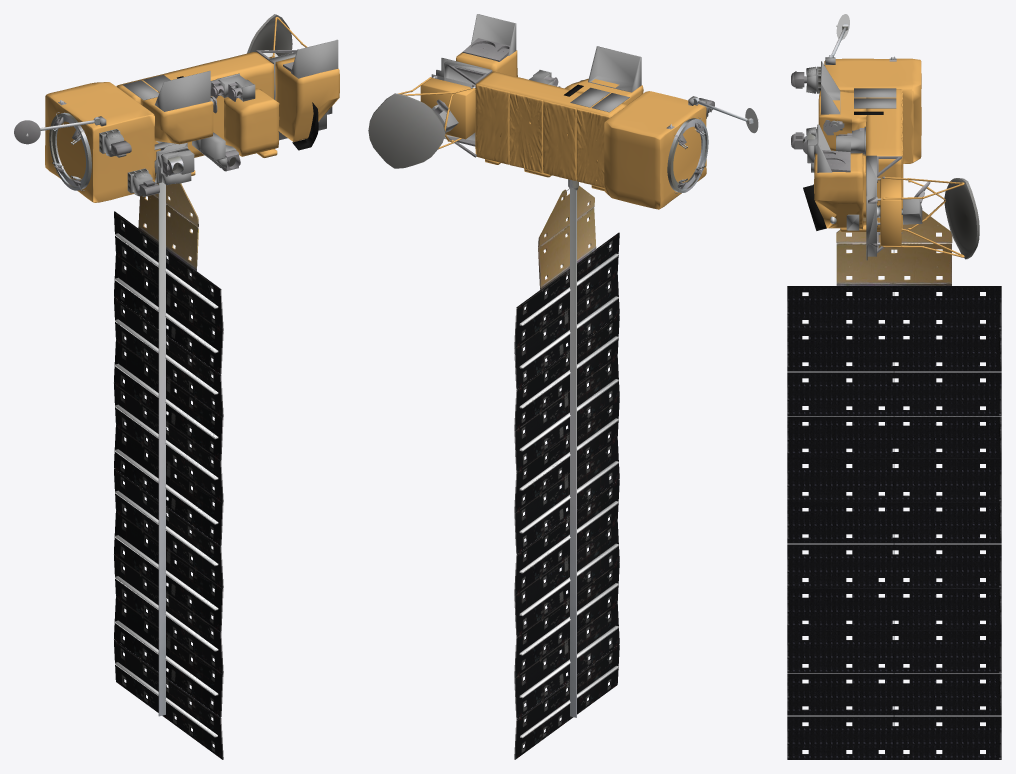
The model's file is nasa_aqua_eos_pm-1_satellite.glb.
3 renders of one model, left to right at view 1: azimuth 30°, elevation 25°; view 2: azimuth 150°, elevation 25°; view 3: azimuth 270°, elevation 25°, orthographic. The views are drawn at different scales.
Parts seen in each view (by area): view 1: tex_01_5_15, foil_gold_1_7, foil_silver_2_9, shiny_panel_4_13; view 2: tex_01_5_15, foil_gold_1_7, gold_2_3_11, foil_silver_2_9, shiny_panel_4_13; view 3: shiny_panel_4_13, foil_gold_1_7, tex_01_5_15, foil_silver_2_9, black_krinkle_0_5.
Boxes of the visible parts, <box> form: tex_01_5_15: <box>14,14,319,759</box>; foil_gold_1_7: <box>45,17,339,202</box>; foil_silver_2_9: <box>98,39,338,196</box>; shiny_panel_4_13: <box>114,211,223,759</box>; tex_01_5_15: <box>368,38,758,759</box>; foil_gold_1_7: <box>398,50,706,209</box>; gold_2_3_11: <box>476,84,610,187</box>; foil_silver_2_9: <box>431,14,711,140</box>; shiny_panel_4_13: <box>514,232,619,759</box>; shiny_panel_4_13: <box>787,286,1001,759</box>; foil_gold_1_7: <box>814,58,964,257</box>; tex_01_5_15: <box>791,14,985,754</box>; foil_silver_2_9: <box>795,57,922,260</box>; black_krinkle_0_5: <box>803,111,883,230</box>.
Bounding box in the file's own units: 0.6935 × 1.31 × 0.3748.
Materials: 5 (2 with a texture image).
